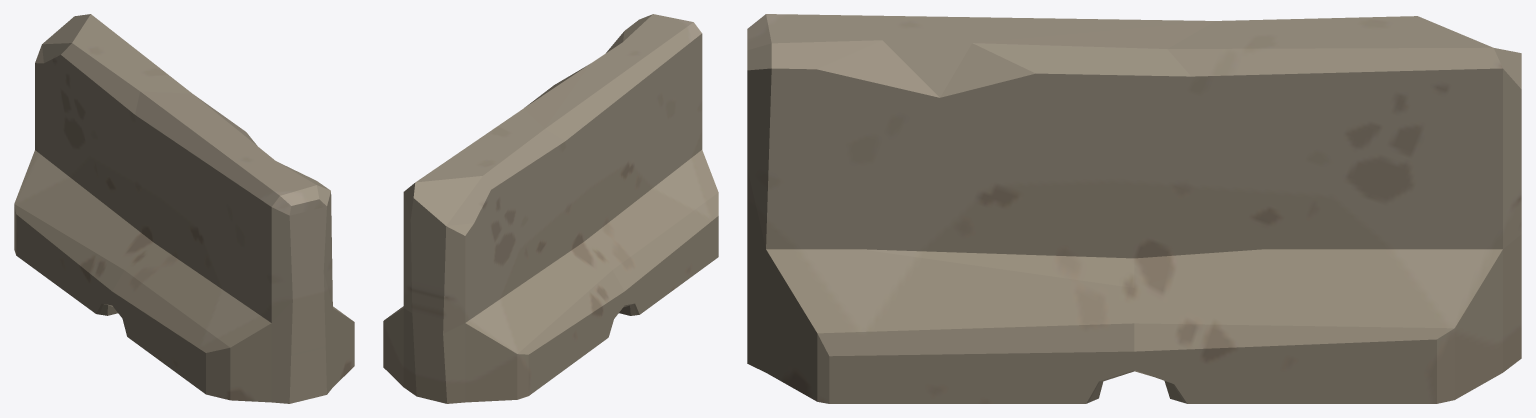
The model's file is SM_Prop_Barrier_03.glb.
3 views of the same model, side by side, from view 1: azimuth 30°, elevation 25°; view 2: azimuth 150°, elevation 25°; view 3: azimuth 270°, elevation 25° (orthographic). The views are drawn at different scales.
Parts seen in each view (by area): view 1: SM_Prop_Barrier_03; view 2: SM_Prop_Barrier_03; view 3: SM_Prop_Barrier_03.
Boxes of the visible parts, bbox=[...] form: SM_Prop_Barrier_03: bbox=[14, 14, 354, 403]; SM_Prop_Barrier_03: bbox=[383, 14, 718, 403]; SM_Prop_Barrier_03: bbox=[747, 14, 1521, 403].
Size of the model in its own units: 0.7003 by 0.9544 by 2.1.
1 material, 1 textured.
